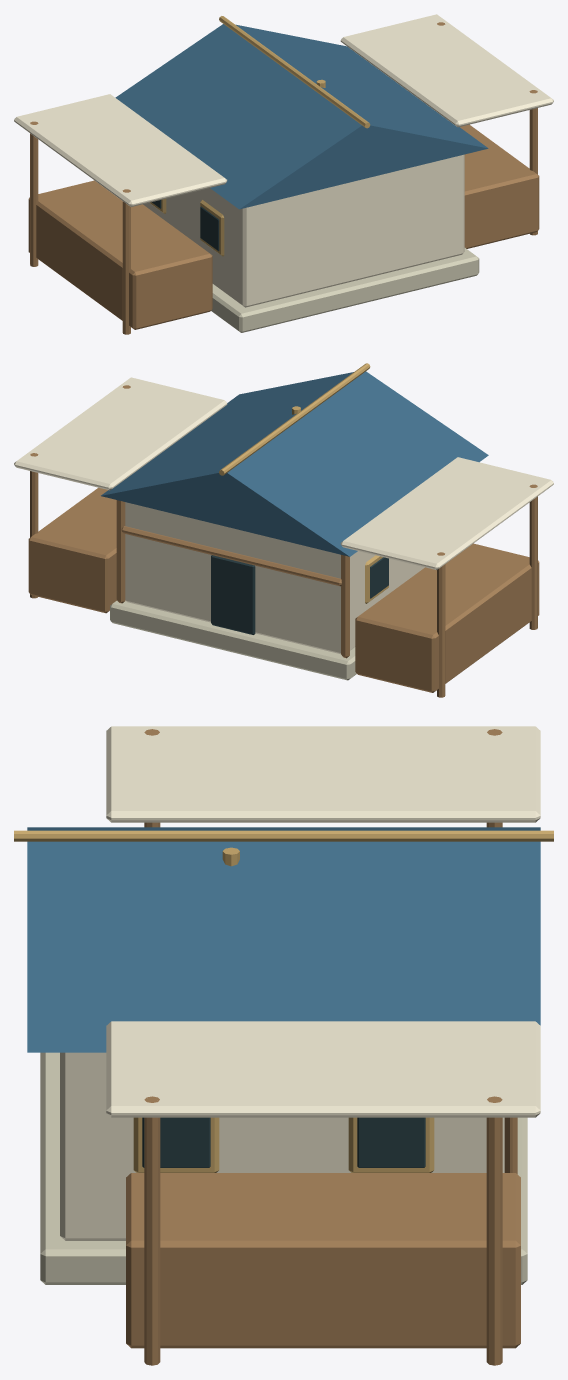
Rendered from level_01.glb.
The picture shows the model from 3 angles, top to bottom: view 1: azimuth 30°, elevation 25°; view 2: azimuth 150°, elevation 25°; view 3: azimuth 270°, elevation 25°; orthographic projection. The views are drawn at different scales.
Parts seen in each view (by area): view 1: market — level 01; view 2: market — level 01; view 3: market — level 01.
Boxes of the visible parts, bbox=[...] form: market — level 01: bbox=[14, 14, 553, 334]; market — level 01: bbox=[14, 363, 553, 697]; market — level 01: bbox=[14, 726, 553, 1365].
Size of the model in its own units: 6.9 by 2.91 by 4.1.
